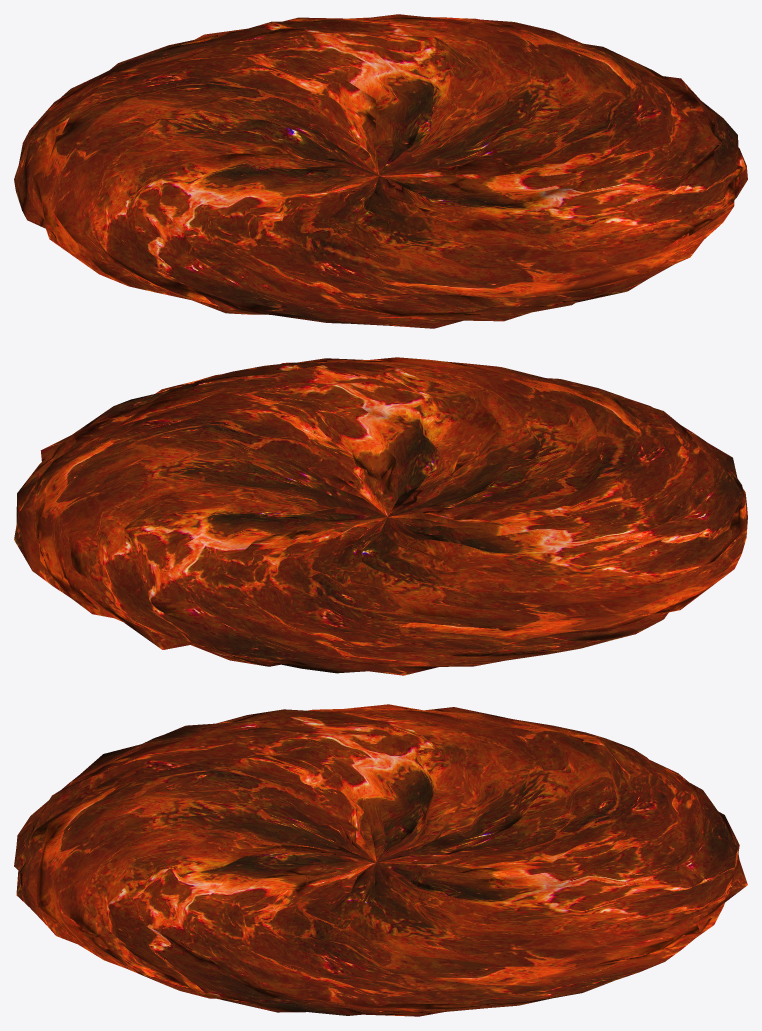
Rendered from lord_effect_2.fbx.
3 views of the same model, one above another, from view 1: azimuth 30°, elevation 25°; view 2: azimuth 150°, elevation 25°; view 3: azimuth 270°, elevation 25° (orthographic).
Visible parts, largest first — view 1: shuimian_1; view 2: shuimian_1; view 3: shuimian_1.
Boxes of the visible parts, left/top/right/bottom form: shuimian_1: left=14, top=14, right=747, bottom=328; shuimian_1: left=14, top=357, right=747, bottom=675; shuimian_1: left=14, top=704, right=747, bottom=1016.
Size of the model in its own units: 31.69 by 1.54 by 31.69.
Materials: 1 (1 with a texture image).
